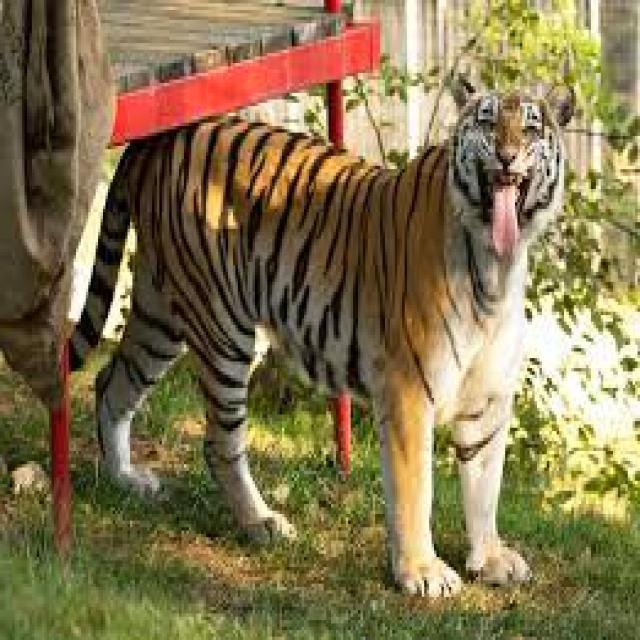tiger: (71, 80, 574, 594)
